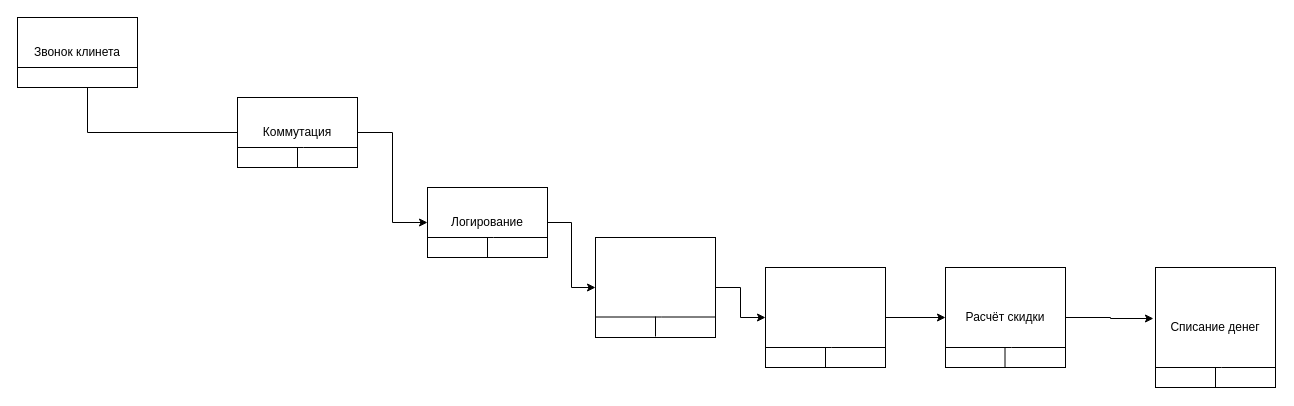
This 1294x406 diagram has some shape labels left out. Each missing label, with the centre of its shape:
"Завершение звонка" goes at pixel 655 287.
"Запись в базу данных данных по звонку" goes at pixel 825 317.
